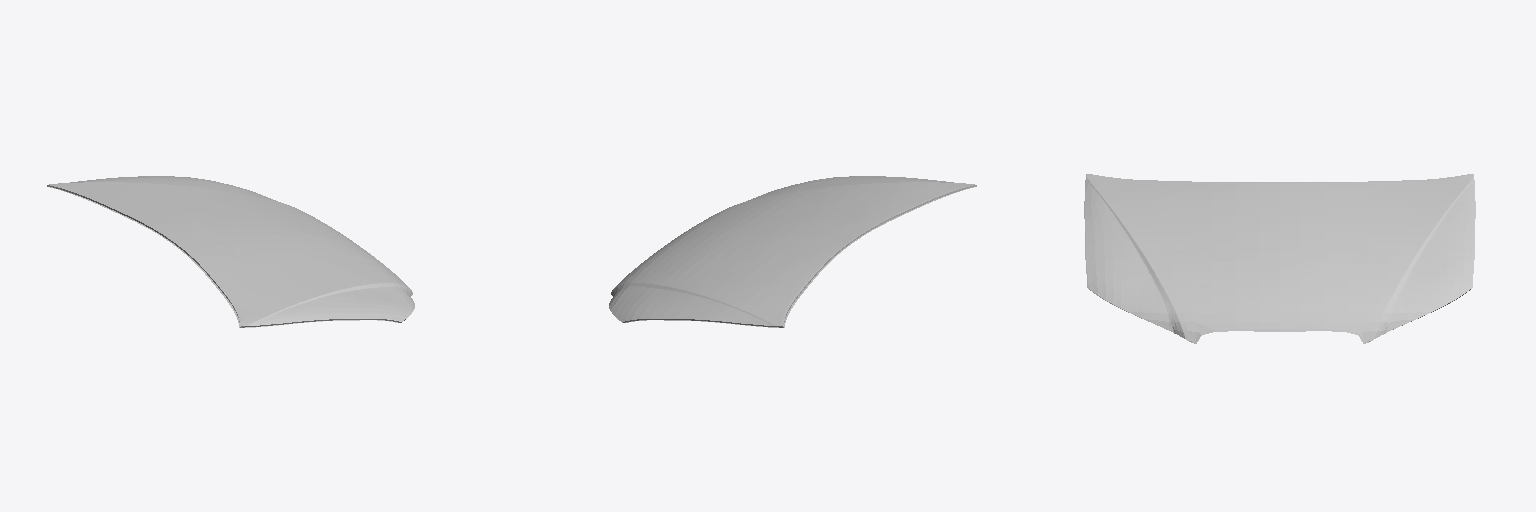
3 renders of one model, left to right at view 1: azimuth 30°, elevation 25°; view 2: azimuth 150°, elevation 25°; view 3: azimuth 270°, elevation 25°, orthographic.
Visible parts, largest first — view 1: E233_101B_C_2_DaS_E233_101B_C; view 2: E233_101B_C_2_DaS_E233_101B_C; view 3: E233_101B_C_2_DaS_E233_101B_C.
Boxes of the visible parts, x1,y1,x2,y2 form: E233_101B_C_2_DaS_E233_101B_C: [49, 176, 414, 326]; E233_101B_C_2_DaS_E233_101B_C: [609, 176, 974, 326]; E233_101B_C_2_DaS_E233_101B_C: [1084, 174, 1475, 343].
Size of the model in its own units: 117 by 33.44 by 175.